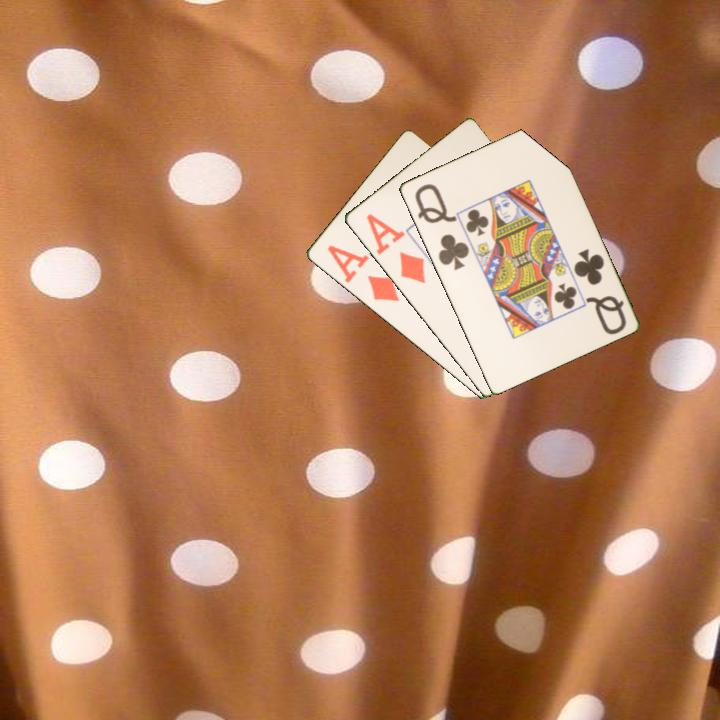Ad: (323, 241, 402, 305), (362, 210, 428, 286)
Qc: (411, 180, 472, 273), (570, 245, 629, 338)
